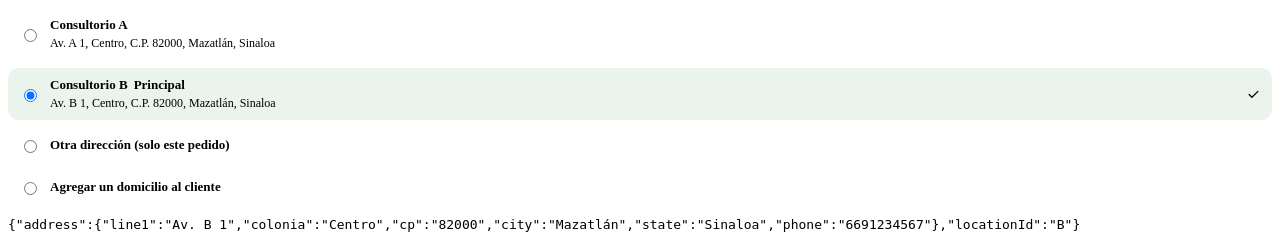
Test: ENT-2 · DomicilioClientePicker › preselecciona el principal y reporta el snapshot con su id
This screenshot has width=1280, height=249.
Expected: the 2nd radio button is checked, 24,89 -> 37,102
Expected: the text with test id "valor" shows "\"locationId\":\"B\"", 8,217 -> 1080,232
Click the label with test id "domicilio-A". click: (89, 24)
box: 8,8 -> 1272,60
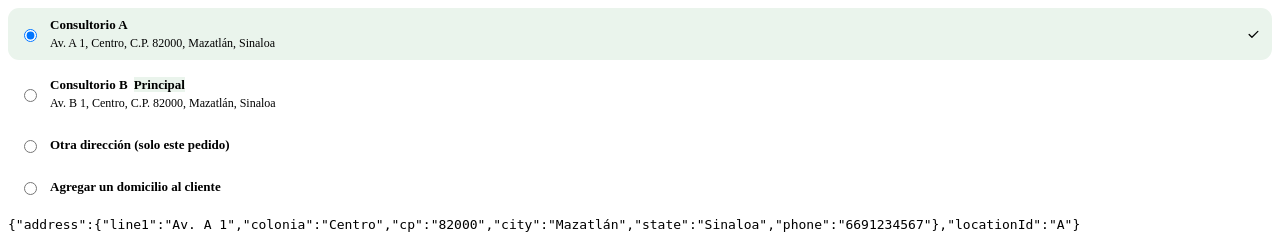
Result: the text with test id "valor" shows "\"locationId\":\"A\"" at 8,217 -> 1080,232
